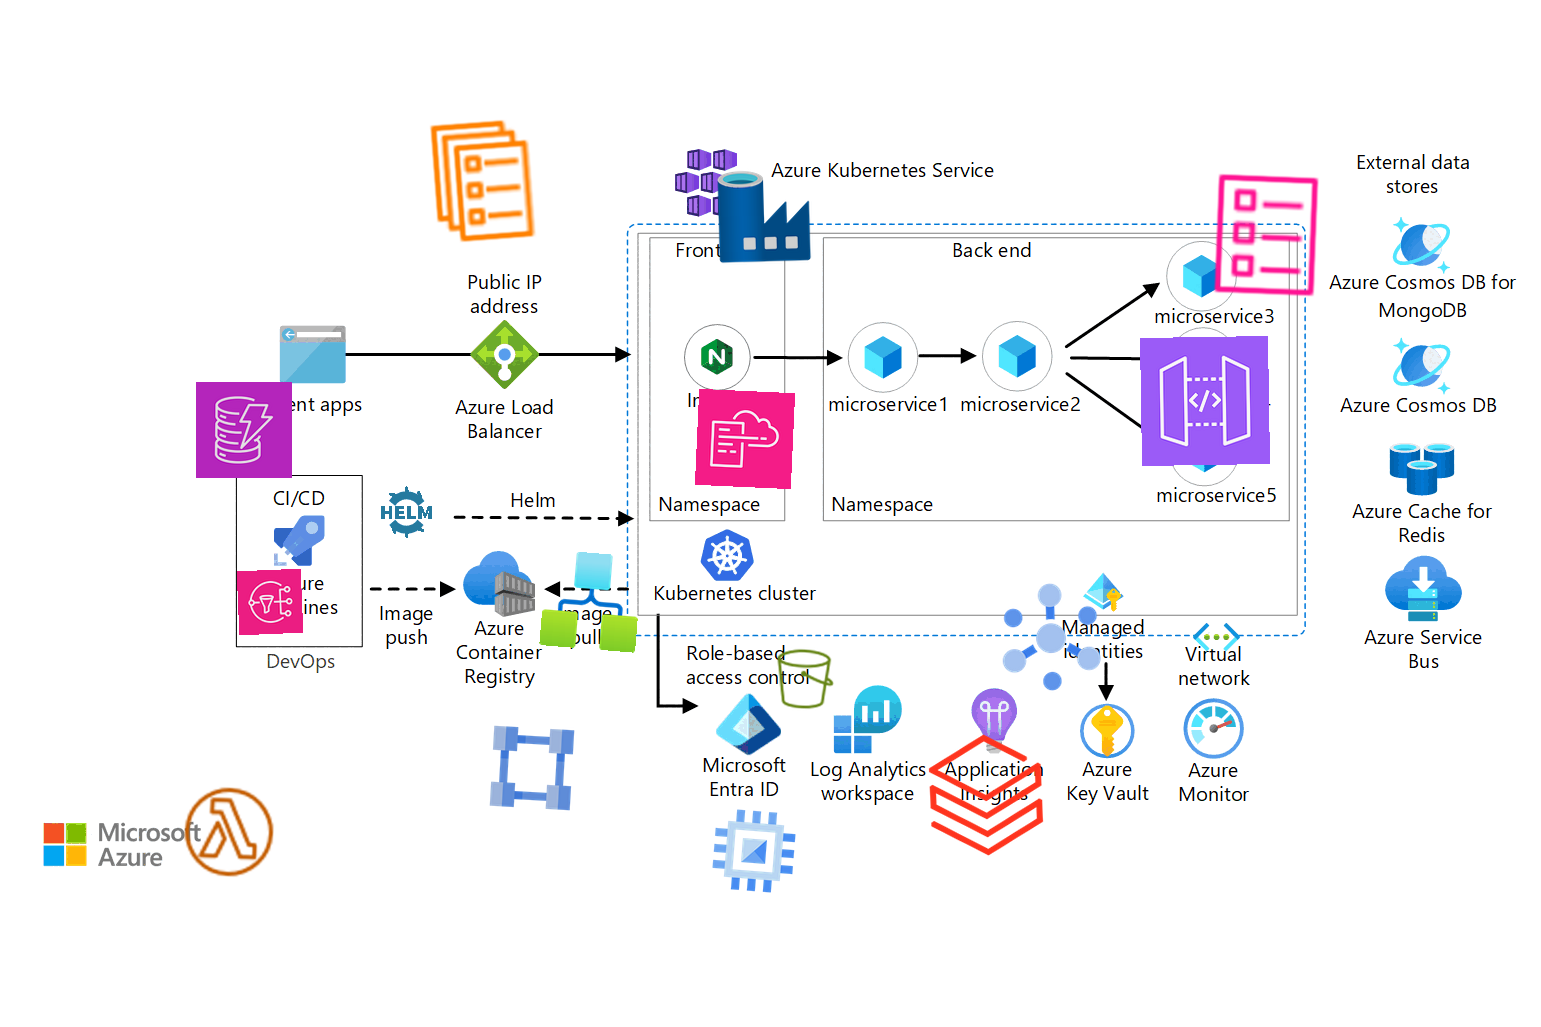aws_amazon_api_gateway: (1139, 335, 1271, 467)
aws_amazon_dynamodb: (195, 381, 293, 479)
aws_amazon_simple_notification_service: (236, 569, 304, 636)
aws_cloudformation: (694, 389, 796, 489)
aws_cloudformation_template: (1198, 168, 1332, 301)
aws_elastic_container_service_service: (414, 112, 552, 250)
aws_lambda_lambda_function: (179, 782, 280, 881)
aws_simple_storage_service_bucket: (771, 645, 839, 713)
azure_data_factories: (714, 166, 813, 266)
azure_databricks: (919, 728, 1053, 862)
azure_logic_apps: (538, 549, 643, 653)
gcp_compute_engine: (702, 799, 805, 903)
gcp_pubsub: (984, 570, 1118, 704)
gcp_virtual_private_cloud: (481, 718, 583, 820)
